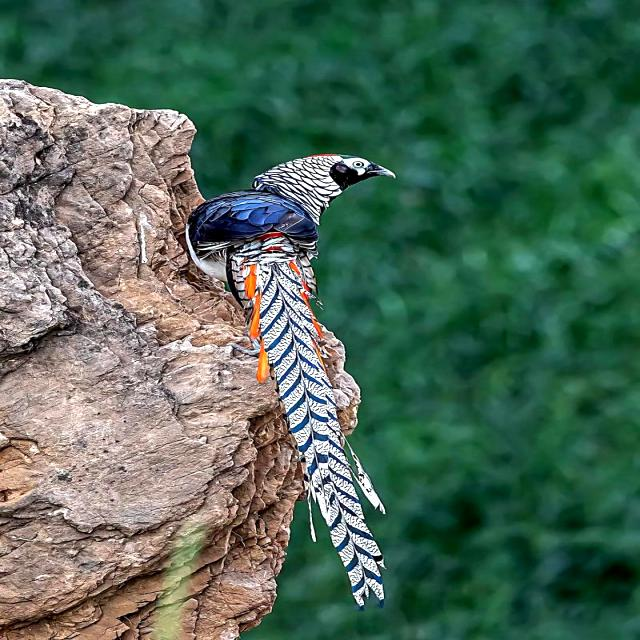Chrysolophus amherstiae: (230, 234, 385, 607)
